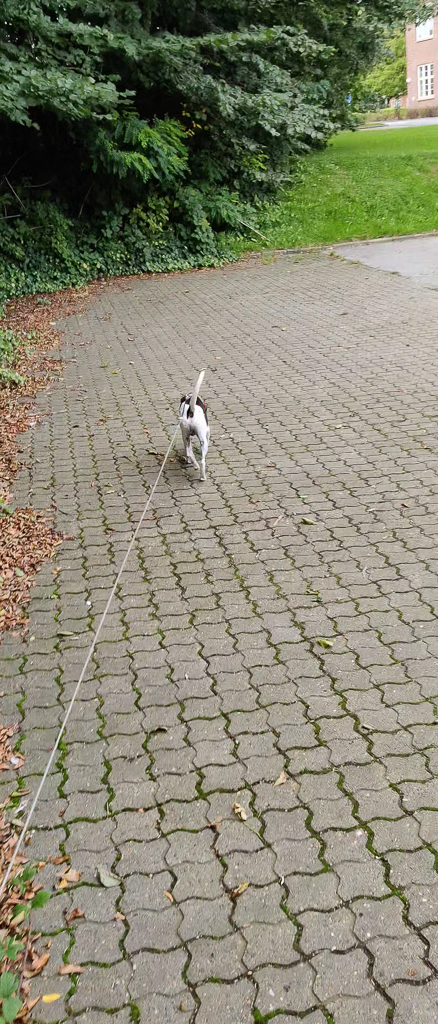Dog: (167, 364, 226, 494)
